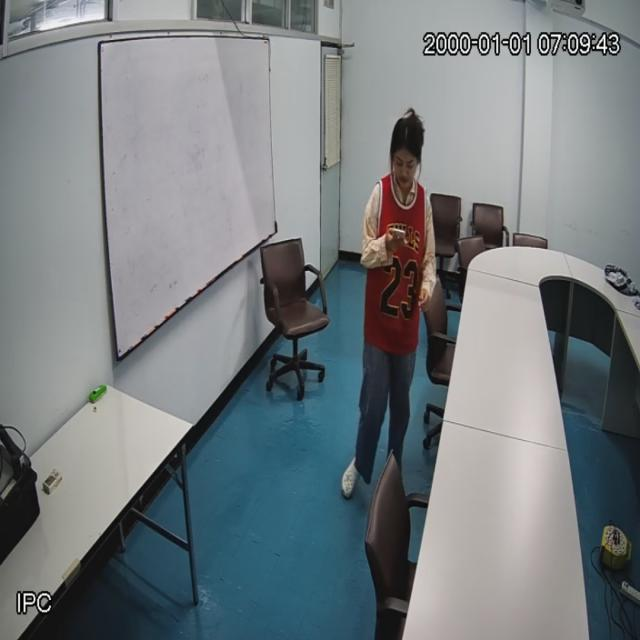normal: (358, 119, 435, 452)
